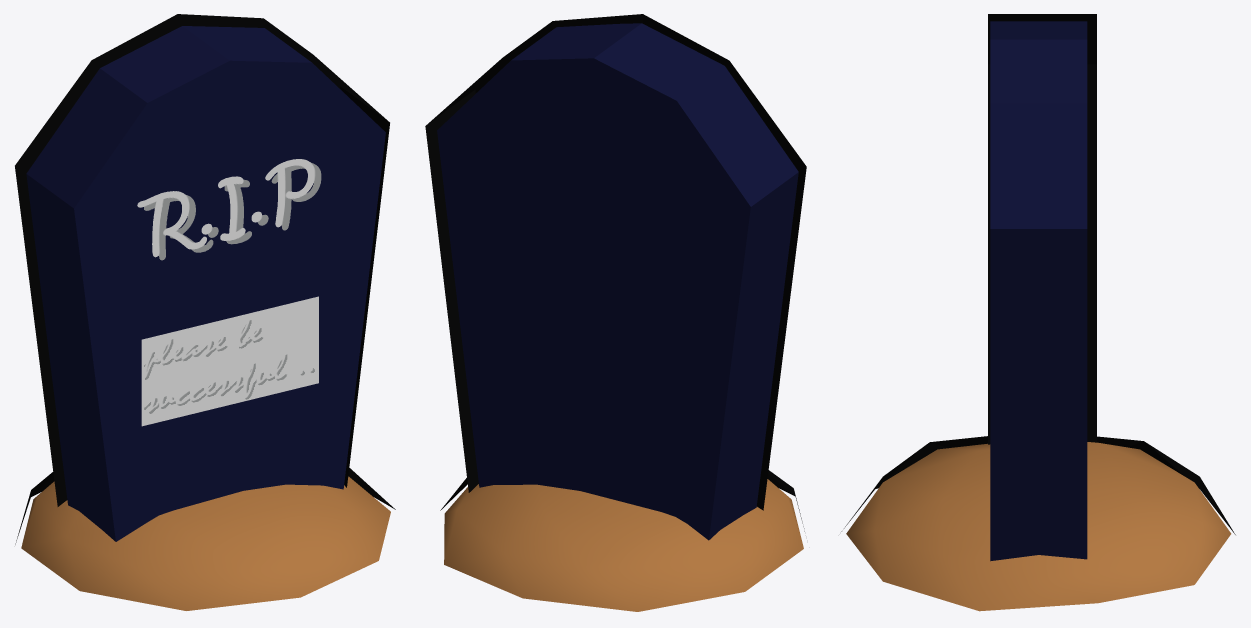
The model's file is RIP.fbx.
3 views of the same model, side by side, from view 1: azimuth 30°, elevation 25°; view 2: azimuth 150°, elevation 25°; view 3: azimuth 270°, elevation 25° (orthographic).
Parts seen in each view (by area): view 1: RIP, RIP.001; view 2: RIP, RIP.001; view 3: RIP, RIP.001.
Part boxes in pixels (<box>): RIP: <box>15,14,389,541</box>; RIP.001: <box>15,468,395,610</box>; RIP: <box>425,14,806,540</box>; RIP.001: <box>440,470,804,611</box>; RIP: <box>988,14,1096,561</box>; RIP.001: <box>841,436,1235,611</box>.
Bounding box in the file's own units: 157 × 164 × 230.
5 materials, 2 textured.
